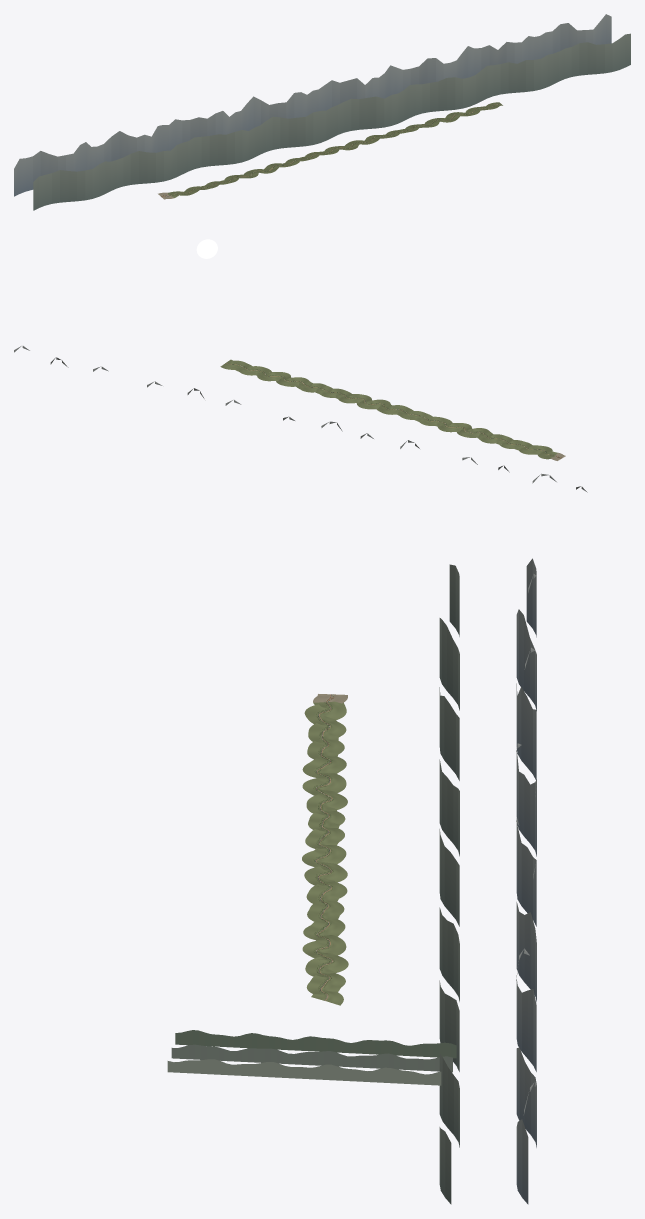
Rendered from angels.glb.
The picture shows the model from 3 angles, top to bottom: view 1: azimuth 30°, elevation 25°; view 2: azimuth 150°, elevation 25°; view 3: azimuth 270°, elevation 25°; orthographic projection. The views are drawn at different scales.
Visible parts, largest first — view 1: Peaks; view 2: Peaks; view 3: Peaks.
Boxes of the visible parts, x1,y1,x2,y2 form: Peaks: (14, 14, 630, 210); Peaks: (14, 346, 587, 492); Peaks: (167, 558, 536, 1204).
Size of the model in its own units: 26880 by 3988 by 8361.
